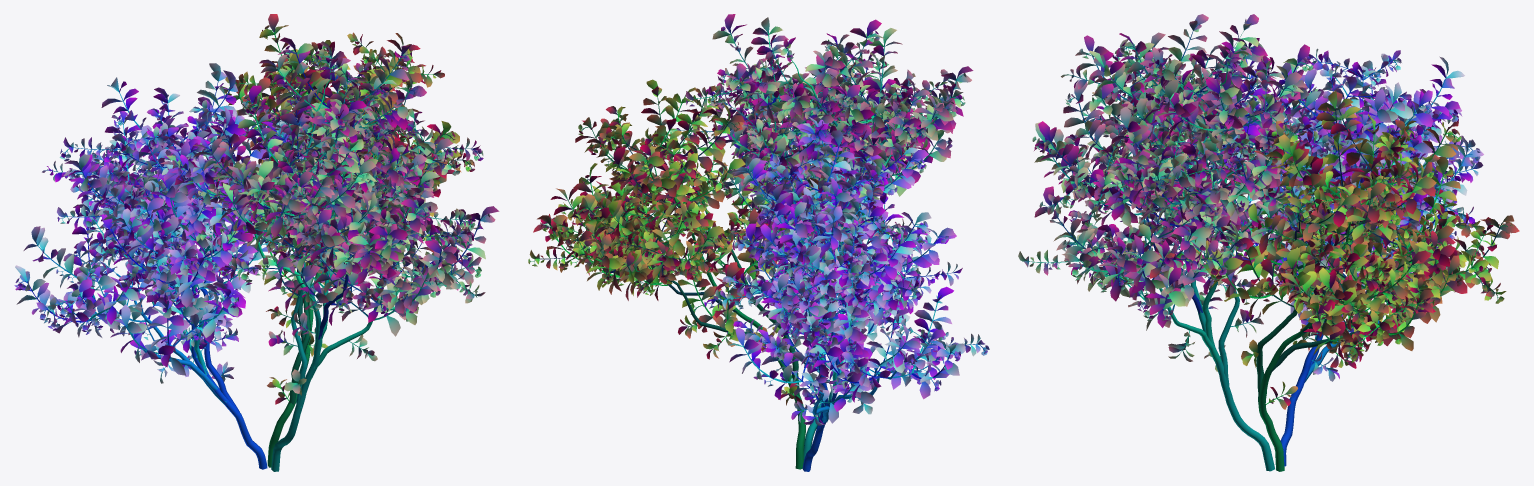
Rendered from European_Spindle_wk1ncbxja_Mid_wk1ncbxja_VarC_LOD1.fbx.
The picture shows the model from 3 angles, left to right: view 1: azimuth 30°, elevation 25°; view 2: azimuth 150°, elevation 25°; view 3: azimuth 270°, elevation 25°; orthographic projection. The views are drawn at different scales.
Visible parts, largest first — view 1: _aaa1_VarC_LOD2; view 2: _aaa1_VarC_LOD2; view 3: _aaa1_VarC_LOD2.
Part boxes in pixels (box(x1,y1,x2,y2)): _aaa1_VarC_LOD2: box(14, 14, 499, 471); _aaa1_VarC_LOD2: box(528, 14, 989, 471); _aaa1_VarC_LOD2: box(1018, 14, 1519, 471).
Bounding box in the file's own units: 320 × 287 × 292.
